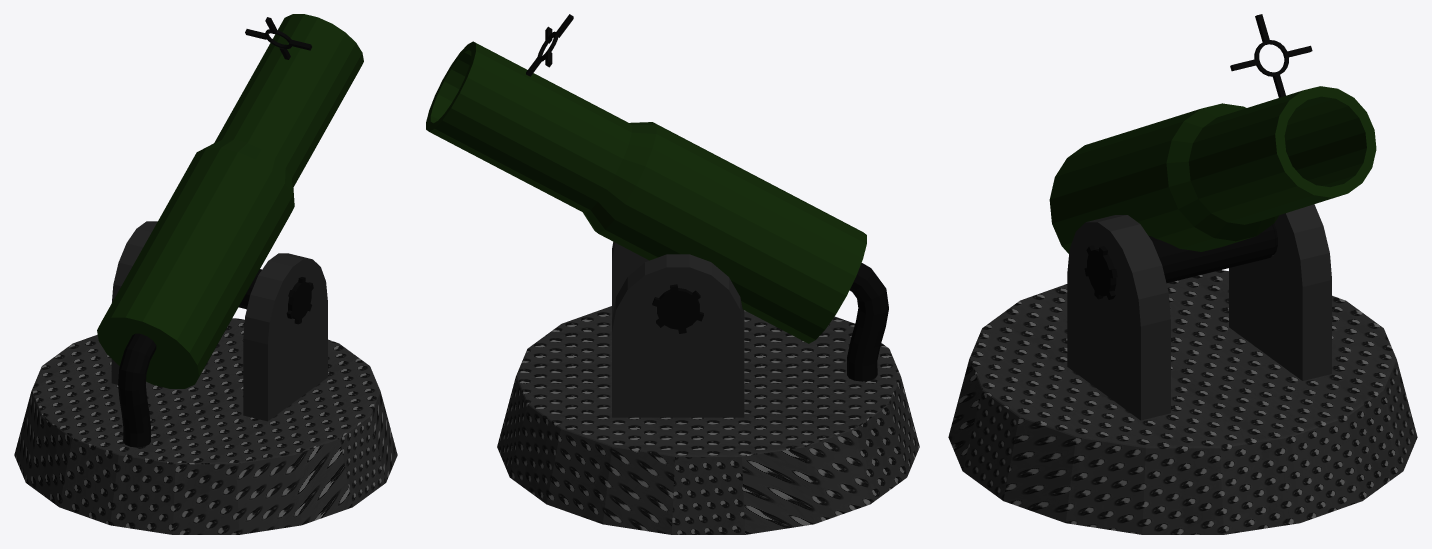
Rendered from TorreEnemiga2.fbx.
The picture shows the model from 3 angles, left to right: view 1: azimuth 30°, elevation 25°; view 2: azimuth 150°, elevation 25°; view 3: azimuth 270°, elevation 25°; orthographic projection. The views are drawn at different scales.
Parts seen in each view (by area): view 1: Object048; view 2: Object048; view 3: Object048.
Part boxes in pixels (x1,y1,x2,y2): Object048: [14, 14, 397, 534]; Object048: [426, 14, 919, 534]; Object048: [948, 14, 1417, 534].
Size of the model in its own units: 183 by 188 by 167.
